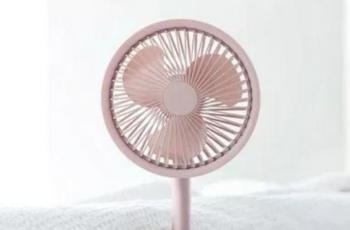fan: (88, 18, 257, 230)
